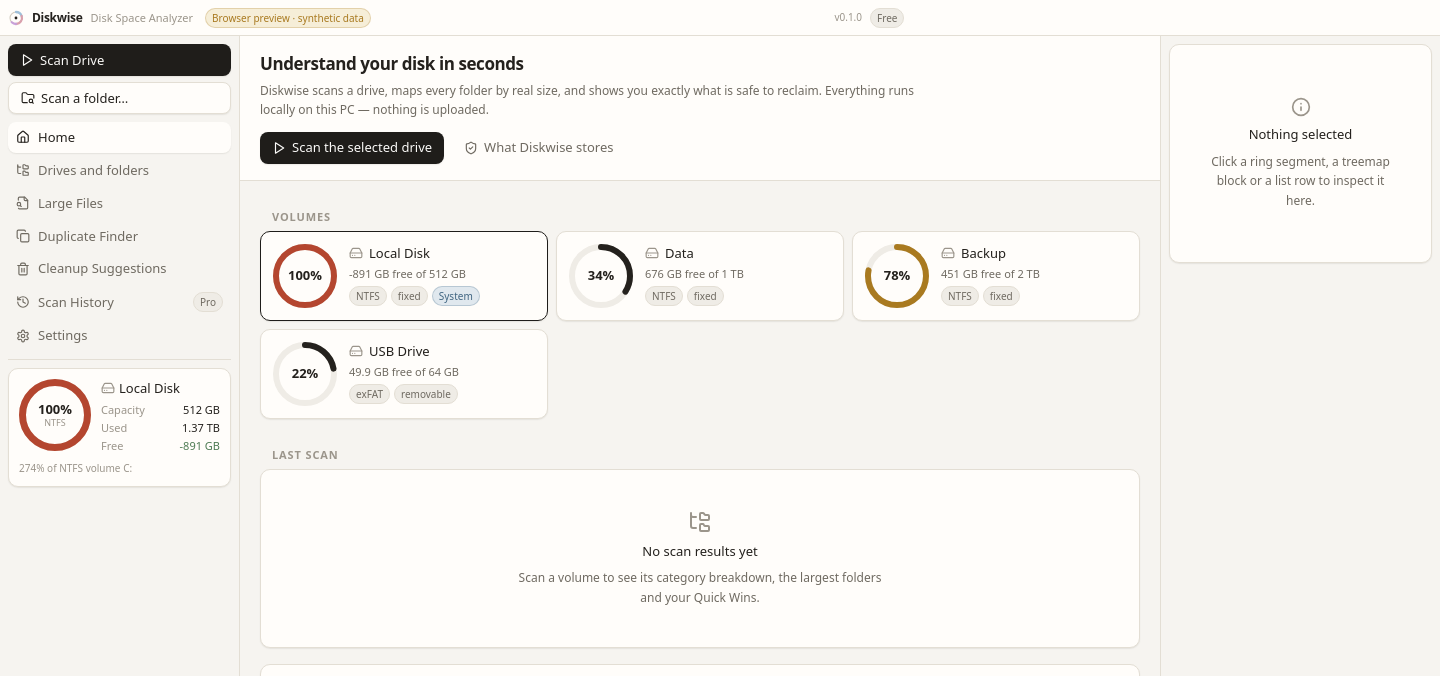
Test: application shell › selecting an item in the file list updates the details panel with real data
The image size is (1440, 676).
Click the button "Scan Drive". click: coordinates (120, 60)
box: top-left (8, 44), bottom-right (231, 76)
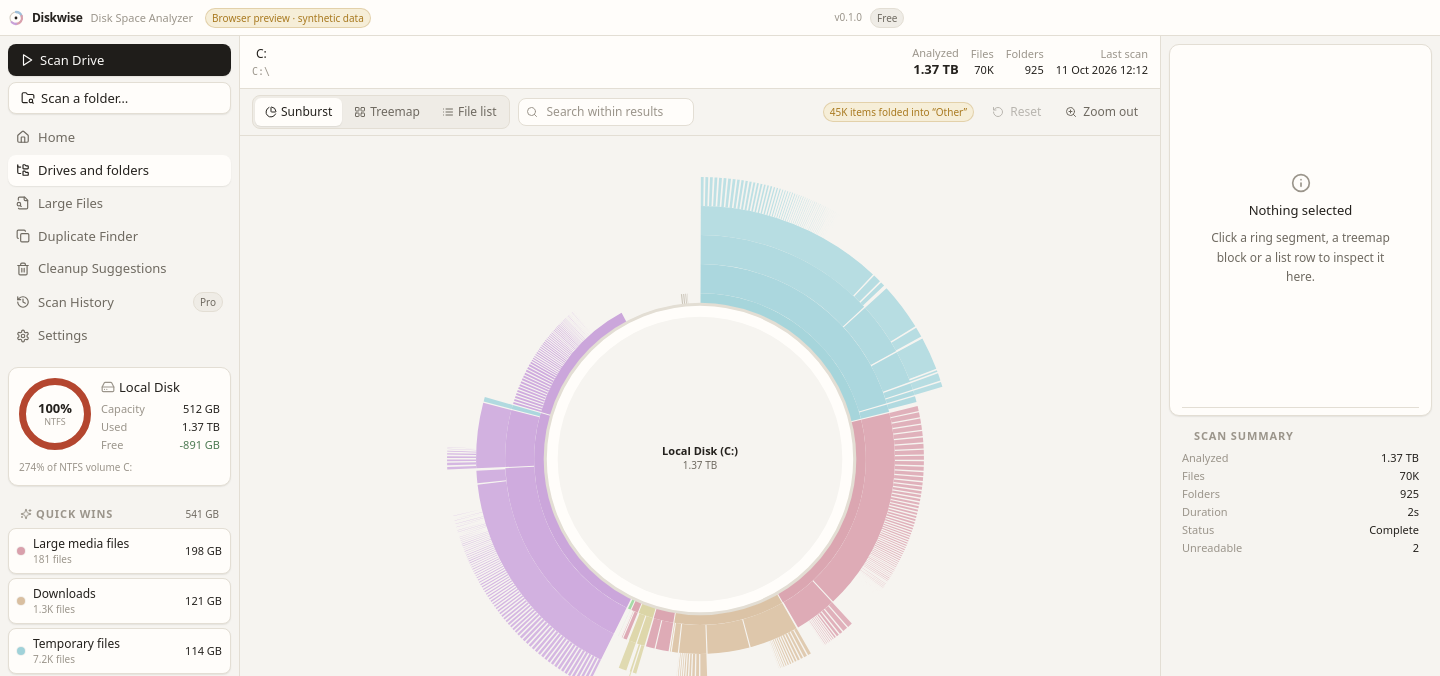
Click the radio button labelled "File list". click: coordinates (469, 112)
box: top-left (432, 98), bottom-right (506, 126)
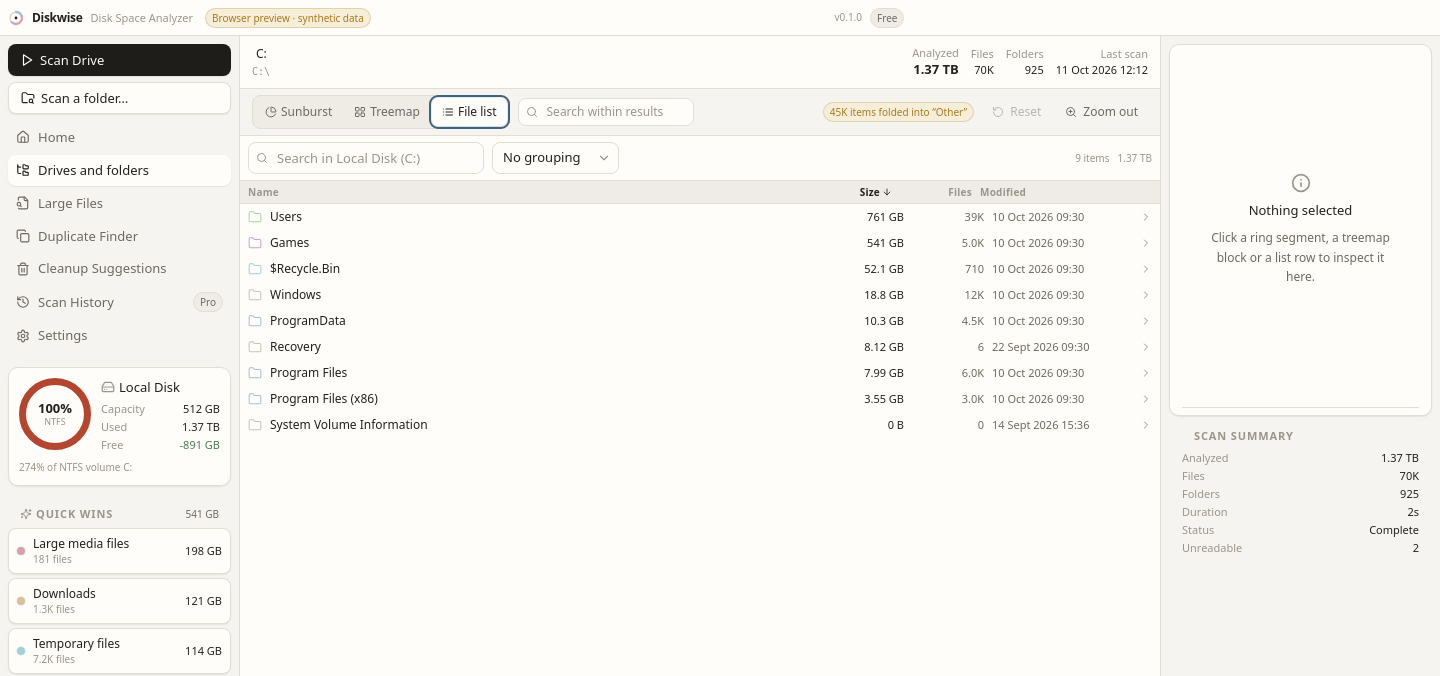
Now the button with test id "file-row" that starts with "Users" is shown
Click the button with test id "file-row" that starts with "Users". click: coordinates (286, 217)
box: top-left (240, 204), bottom-right (1160, 230)
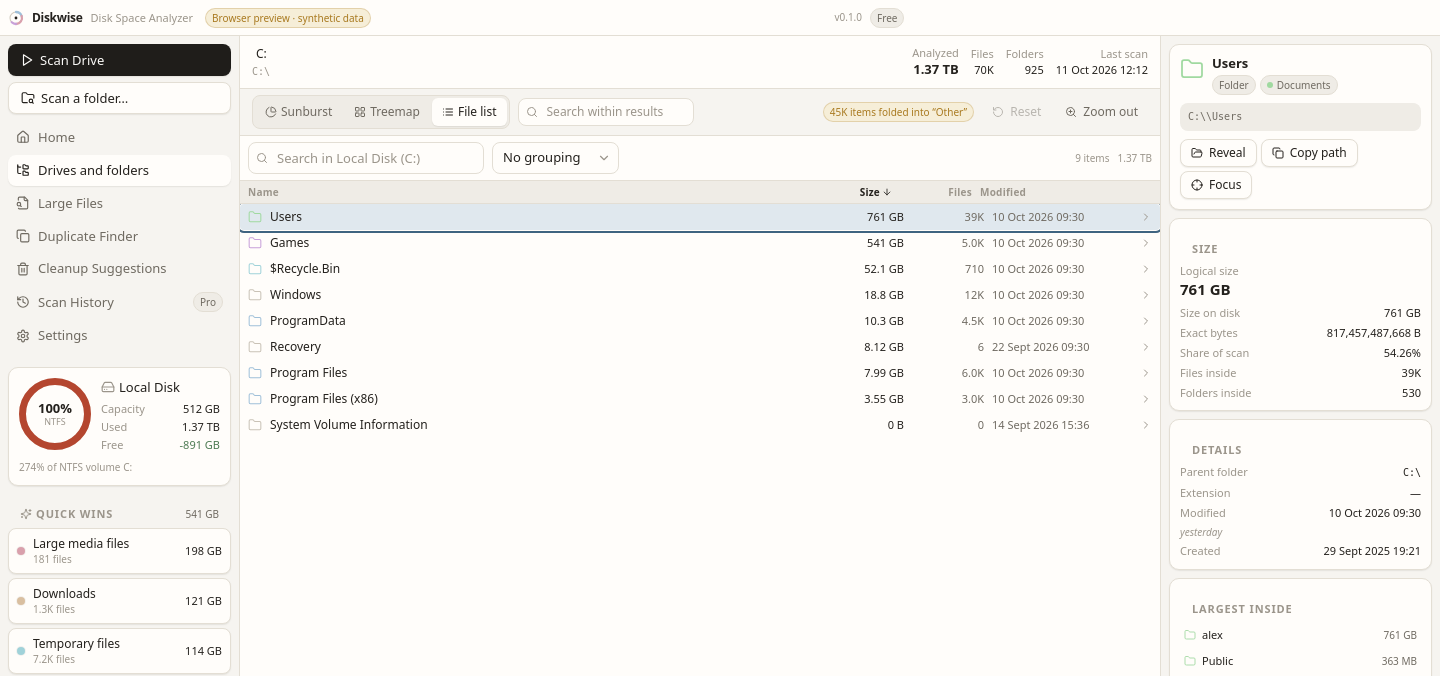
Now the text with test id "details-size" reads "761 GB", box top-left (1180, 279), bottom-right (1231, 299)
